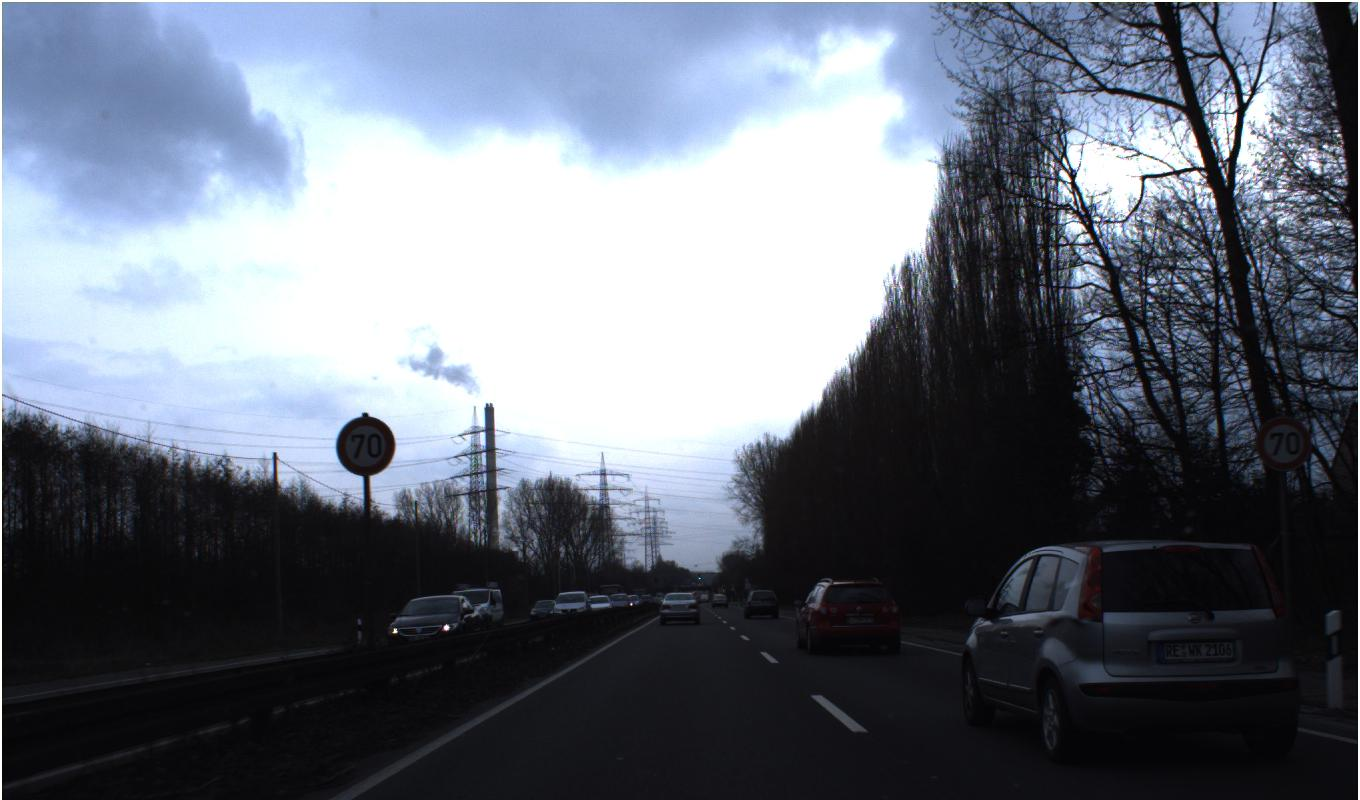prohibitory: (335, 415, 396, 476), (1255, 415, 1312, 472)
